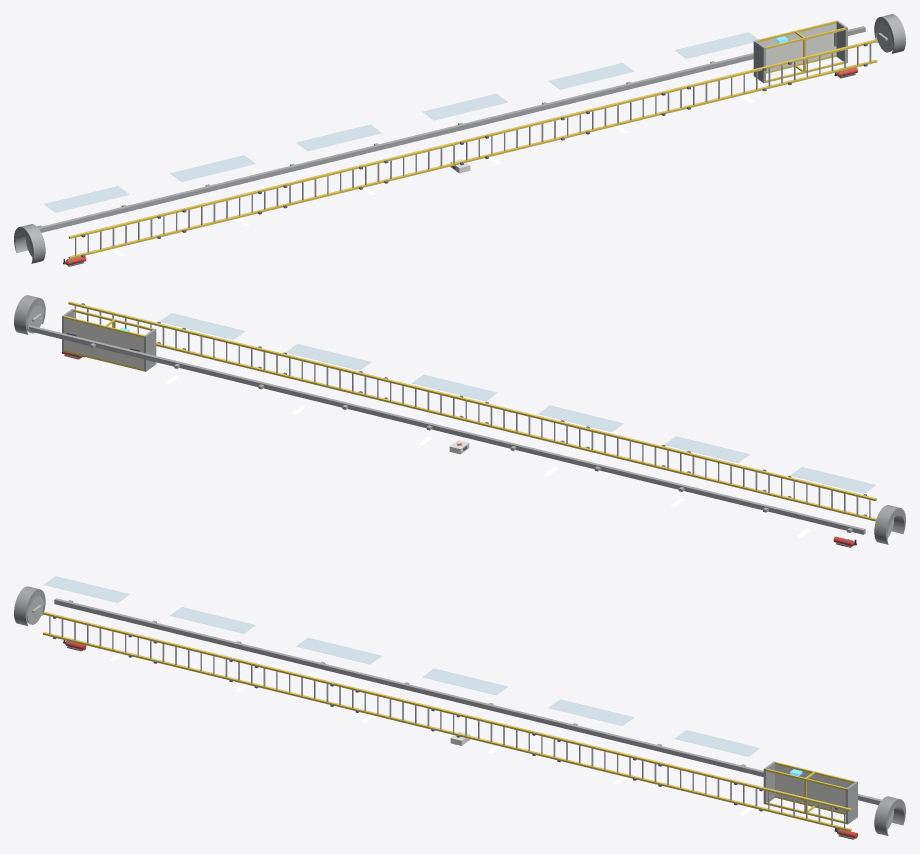
The model's file is station10_spoke_cutaway.glb.
3 renders of one model, top to bottom at view 1: azimuth 30°, elevation 25°; view 2: azimuth 150°, elevation 25°; view 3: azimuth 330°, elevation 25°, orthographic.
Parts seen in each view (by area): view 1: window_glass_inner, elevator_rail, eq42_1_back_panel, eq42_1_corner_posts, hatch_tunnel_1, eq41_5_stiles, eq41_7_stiles, eq41_1_stiles, eq41_2_stiles, eq41_8_stiles, eq41_6_stiles, eq41_3_stiles (+2 smaller); view 2: elevator_rail, window_glass_inner, eq42_1_back_panel, hatch_tunnel_1, eq41_2_stiles, eq41_5_stiles, eq41_1_stiles, eq41_7_stiles, eq41_3_stiles, eq41_4_stiles, eq41_6_stiles, eq42_1_corner_posts (+1 smaller); view 3: window_glass_inner, elevator_rail, eq42_1_back_panel, eq42_1_corner_posts, hatch_tunnel_2, eq41_7_stiles, eq41_5_stiles, eq41_2_stiles, eq41_3_stiles, eq41_8_stiles, eq41_4_stiles, eq41_1_stiles (+2 smaller).
Boxes of the visible parts, x1,y1,x2,y2 form: window_glass_inner: (44,32,759,212); elevator_rail: (37,26,865,232); eq42_1_back_panel: (759,23,836,71); eq42_1_corner_posts: (756,21,845,82); hatch_tunnel_1: (14,224,45,263); eq41_5_stiles: (472,113,574,160); eq41_7_stiles: (674,64,776,111); eq41_1_stiles: (68,211,170,259); eq41_2_stiles: (170,187,271,234); eq41_8_stiles: (775,39,877,86); eq41_6_stiles: (573,88,675,135); eq41_3_stiles: (271,162,372,209); elevator_rail: (29,325,865,534); window_glass_inner: (160,313,875,493); eq42_1_back_panel: (64,318,143,369); hatch_tunnel_1: (874,505,905,544); eq41_2_stiles: (673,449,775,496); eq41_5_stiles: (371,375,472,422); eq41_1_stiles: (774,474,876,521); eq41_7_stiles: (169,326,270,373); eq41_3_stiles: (573,424,674,471); eq41_4_stiles: (472,400,573,447); eq41_6_stiles: (270,350,371,398); eq42_1_corner_posts: (64,309,153,371); window_glass_inner: (44,576,759,756); elevator_rail: (54,598,881,804); eq42_1_back_panel: (775,764,852,812); eq42_1_corner_posts: (766,762,855,823); hatch_tunnel_2: (874,796,905,835); eq41_7_stiles: (648,759,750,806); eq41_5_stiles: (446,710,548,757); eq41_2_stiles: (144,636,245,683); eq41_3_stiles: (244,661,346,708); eq41_8_stiles: (749,784,851,831); eq41_4_stiles: (345,685,447,733); eq41_1_stiles: (43,611,144,659).
Bounding box in the file's own units: 20.74 × 1.41 × 1.28.
